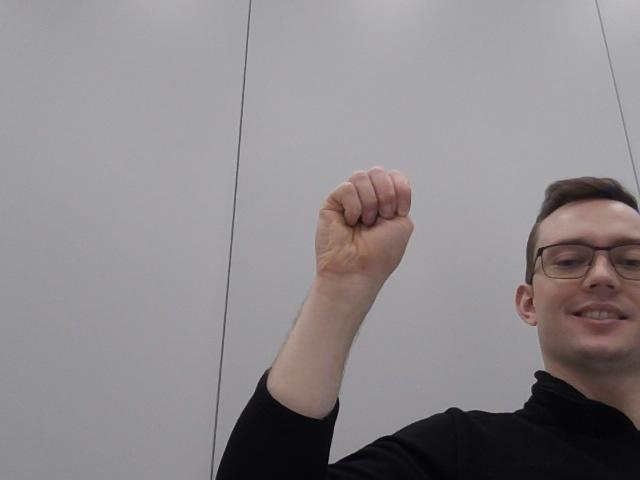down: (285, 157, 460, 319)
